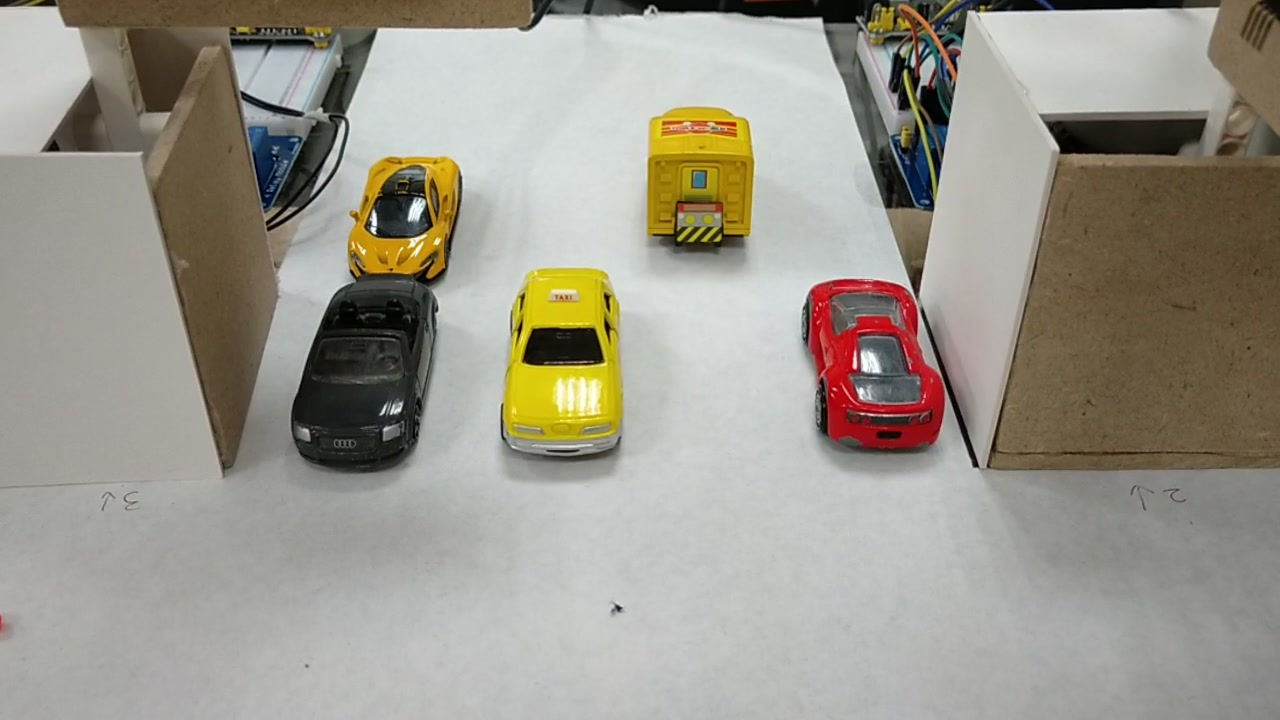car: (293, 285, 441, 461), (797, 278, 943, 453), (511, 266, 622, 457), (350, 156, 459, 272)
